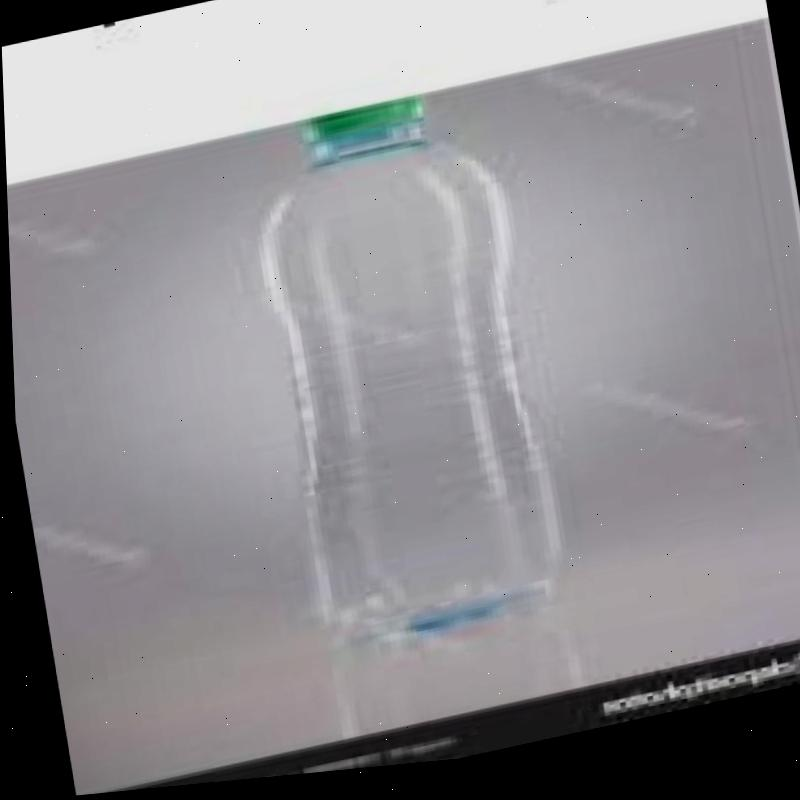botella: (235, 87, 573, 665)
